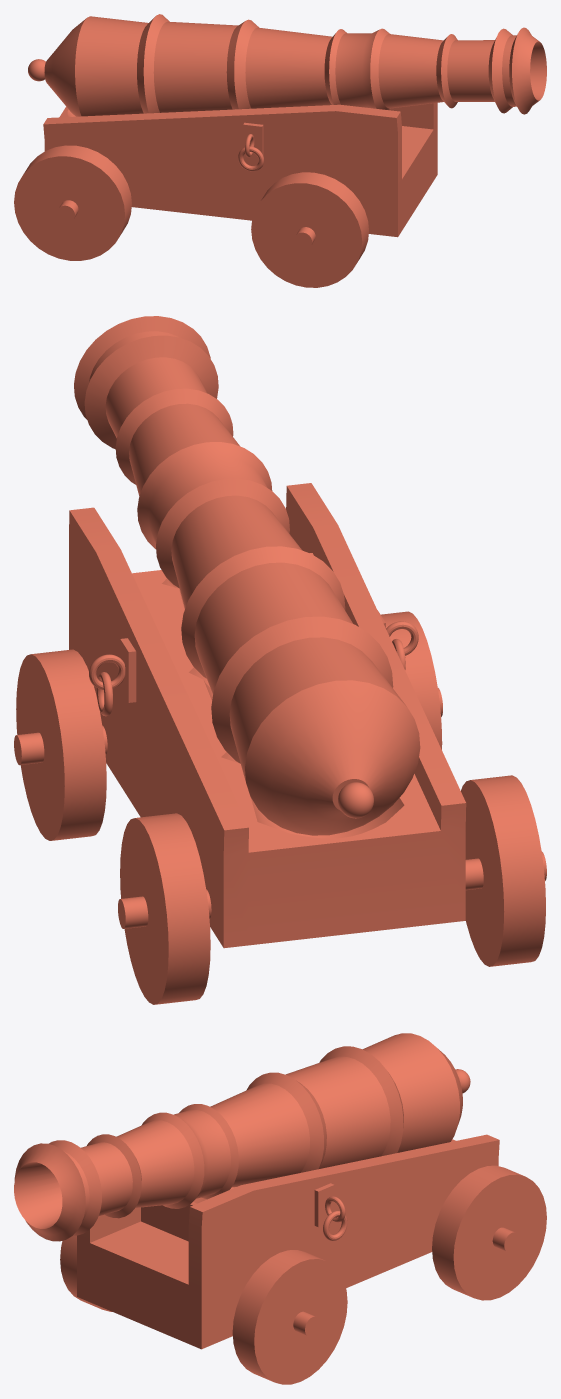
File: F_Armata.fbx
The picture shows the model from 3 angles, top to bottom: view 1: azimuth 30°, elevation 25°; view 2: azimuth 150°, elevation 25°; view 3: azimuth 270°, elevation 25°; orthographic projection. The views are drawn at different scales.
Visible parts, largest first — view 1: F_Armata; view 2: F_Armata; view 3: F_Armata.
Part boxes in pixels (x1=…): F_Armata: x1=14, y1=14, x2=546, y2=287; F_Armata: x1=14, y1=316, x2=546, y2=1004; F_Armata: x1=14, y1=1033, x2=546, y2=1384.
Size of the model in its own units: 180 by 96.26 by 179.
